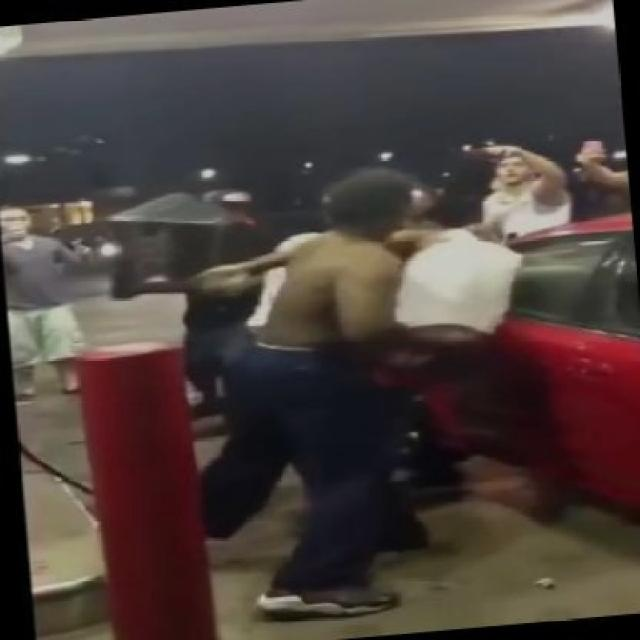fight: (187, 168, 519, 616)
non-fight: (0, 205, 89, 393)
